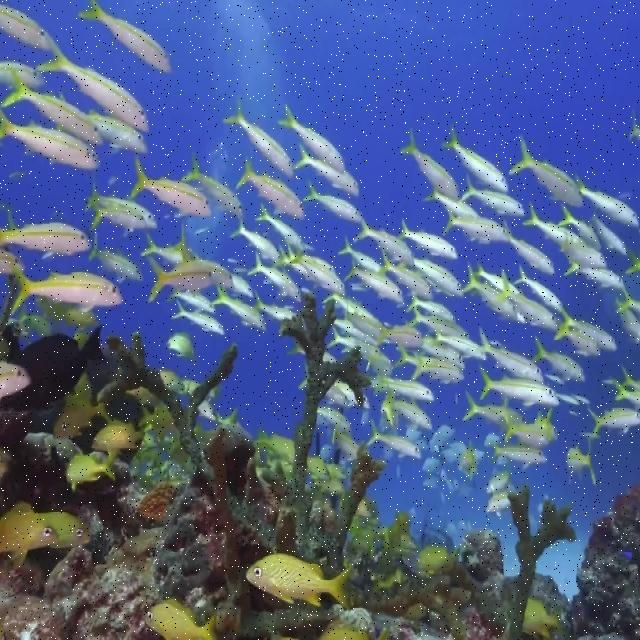fish: (35, 35, 150, 131), (2, 72, 104, 149), (75, 5, 172, 73), (11, 258, 121, 317), (248, 553, 358, 607), (221, 96, 295, 176), (130, 151, 215, 220), (0, 112, 101, 170), (506, 134, 582, 206), (279, 103, 346, 173), (0, 211, 93, 260), (442, 127, 508, 194), (178, 153, 244, 218), (237, 158, 304, 219), (404, 130, 460, 198), (88, 179, 156, 233), (575, 174, 639, 229), (477, 330, 543, 382), (149, 256, 216, 301), (479, 371, 562, 405), (296, 151, 360, 194), (0, 502, 55, 551), (406, 253, 465, 298), (148, 601, 217, 639), (302, 181, 364, 223), (444, 205, 510, 243), (345, 259, 402, 303), (399, 219, 458, 259), (38, 512, 90, 548), (369, 378, 435, 401)
reefs: (97, 294, 386, 636)
